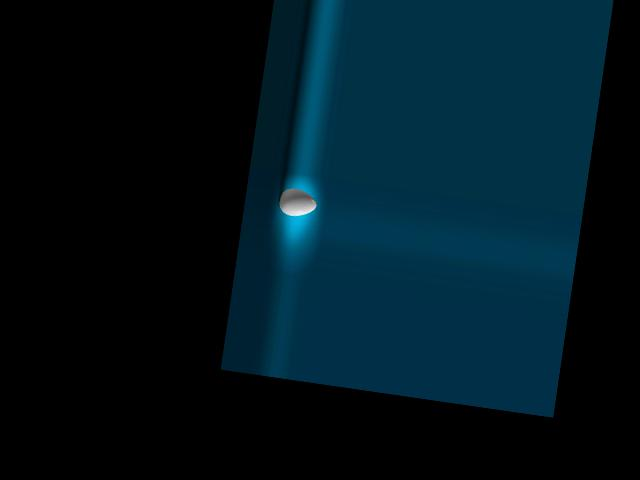egg: (277, 186, 317, 218)
